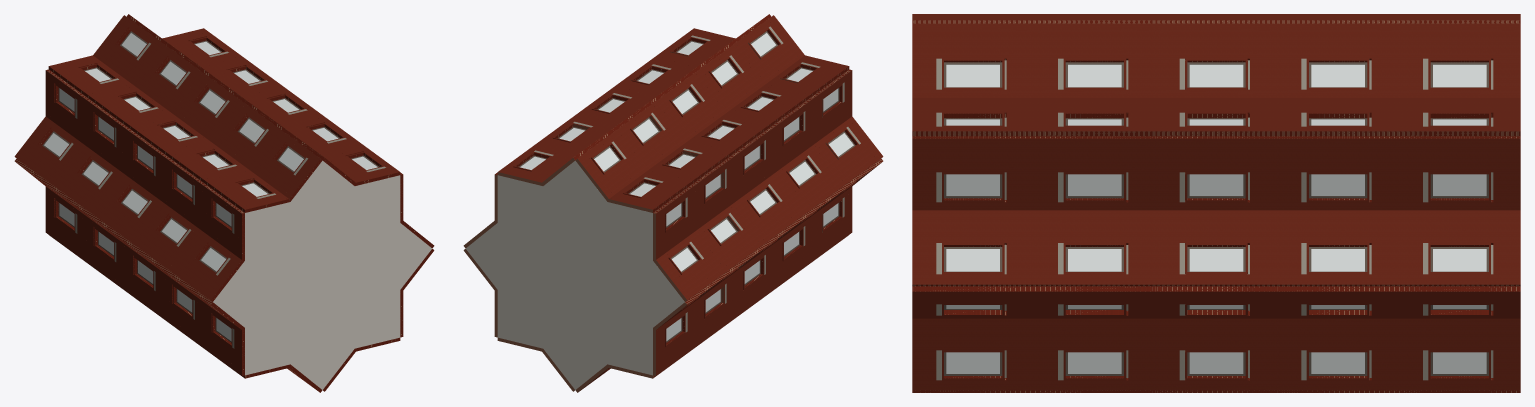
File: selected.glb
The picture shows the model from 3 angles, left to right: view 1: azimuth 30°, elevation 25°; view 2: azimuth 150°, elevation 25°; view 3: azimuth 270°, elevation 25°; orthographic projection. The views are drawn at different scales.
Parts seen in each view (by area): view 1: facade-details, exact-mass; view 2: facade-details, exact-mass; view 3: facade-details, exact-mass.
Boxes of the visible parts, <box> form: facade-details: <box>14,14,434,392</box>; exact-mass: <box>44,33,432,389</box>; facade-details: <box>463,14,883,392</box>; exact-mass: <box>465,33,853,389</box>; facade-details: <box>912,14,1520,392</box>; exact-mass: <box>946,64,1486,373</box>.
Size of the model in its own units: 10.86 by 10.86 by 16.5.
Materials: 5 (2 with a texture image).
